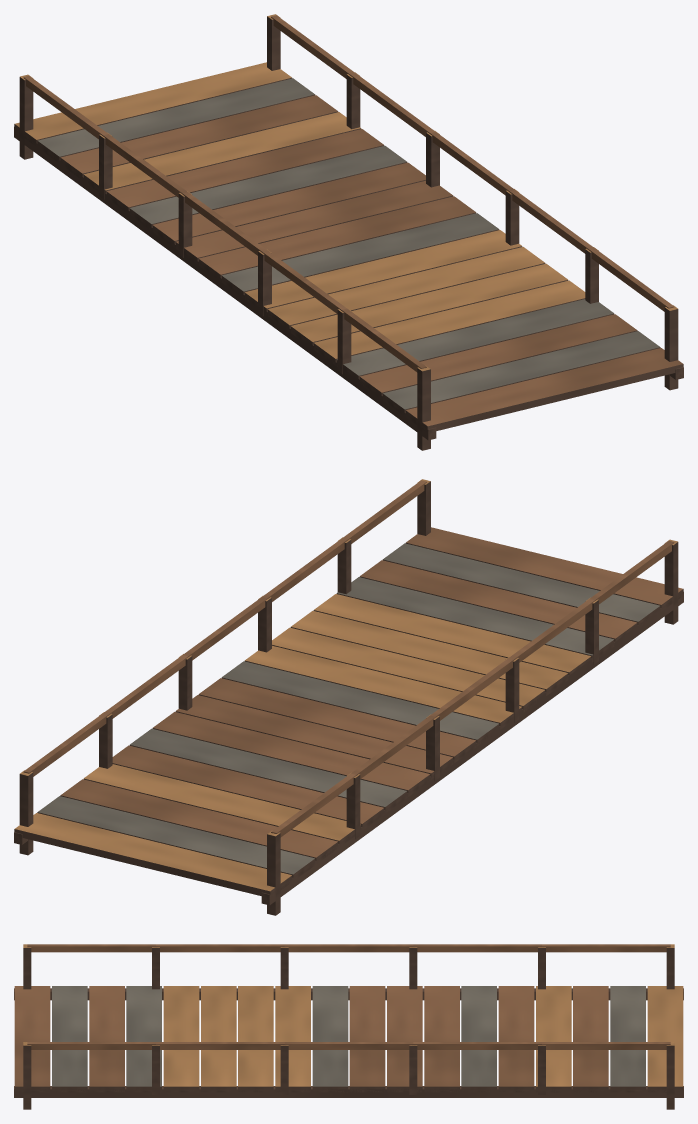
File: bridge_wood_L.fbx
3 views of the same model, one above another, from view 1: azimuth 30°, elevation 25°; view 2: azimuth 150°, elevation 25°; view 3: azimuth 270°, elevation 25° (orthographic). The views are drawn at different scales.
Parts seen in each view (by area): view 1: bridge_wood_L; view 2: bridge_wood_L; view 3: bridge_wood_L.
Boxes of the visible parts, x1,y1,x2,y2 form: bridge_wood_L: (14,14,683,450); bridge_wood_L: (14,479,683,915); bridge_wood_L: (14,944,683,1109).
Bounding box in the file's own units: 500 × 150 × 1400.
1 material, 1 textured.
